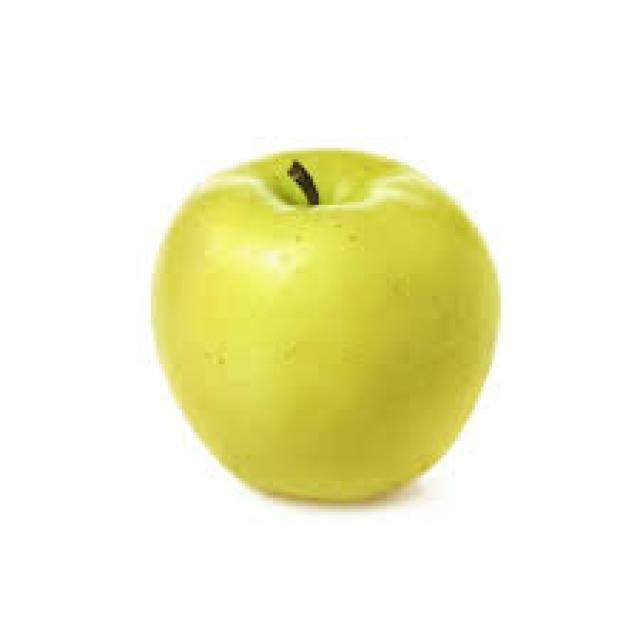50-_ripeness: (144, 148, 502, 515)
